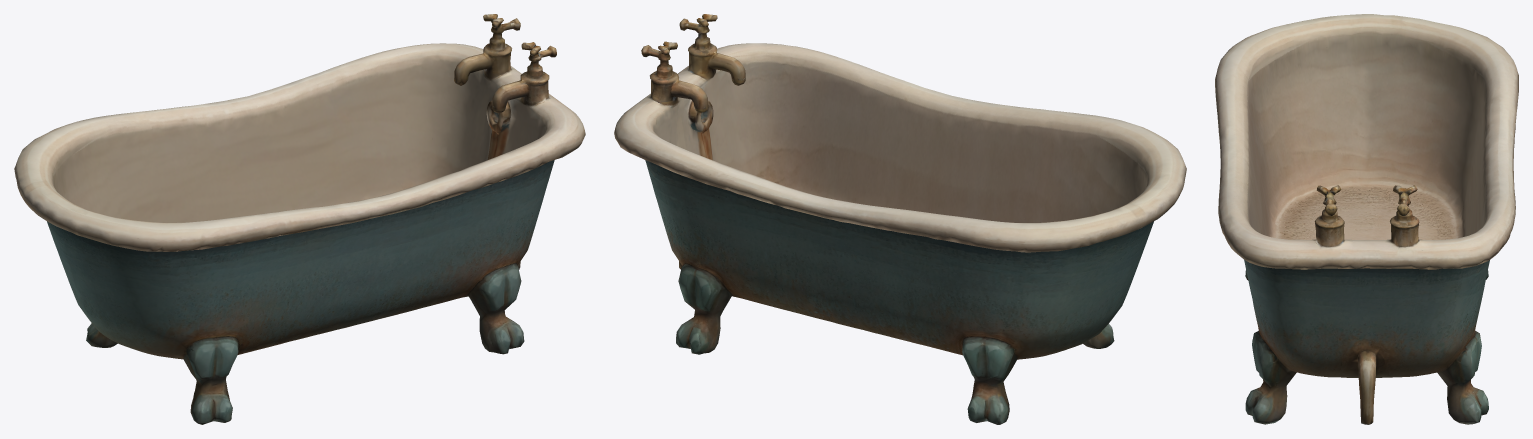
The model's file is Furn_Bathtub.fbx.
3 renders of one model, left to right at view 1: azimuth 30°, elevation 25°; view 2: azimuth 150°, elevation 25°; view 3: azimuth 270°, elevation 25°, orthographic.
Visible parts, largest first — view 1: texture_mapping; view 2: texture_mapping; view 3: texture_mapping.
Boxes of the visible parts, <box> form: texture_mapping: <box>14,14,585,424</box>; texture_mapping: <box>614,14,1186,424</box>; texture_mapping: <box>1215,14,1518,424</box>.
Bounding box in the file's own units: 0.9987 × 0.5305 × 0.5007.
Materials: 1 (1 with a texture image).
